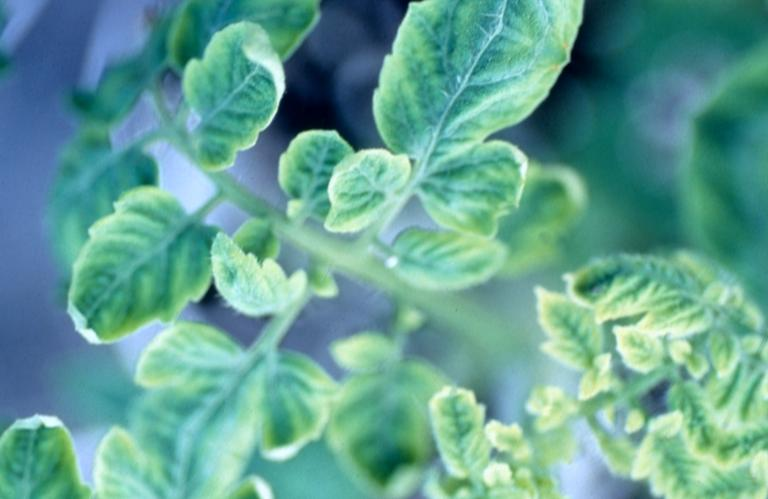Tomato leaf yellow virus: (349, 0, 586, 207), (36, 167, 242, 387), (124, 293, 350, 477), (151, 8, 310, 190), (398, 96, 559, 259), (370, 198, 538, 330), (398, 365, 534, 499), (243, 109, 370, 247), (189, 217, 323, 336), (306, 131, 429, 260), (508, 277, 634, 389)
